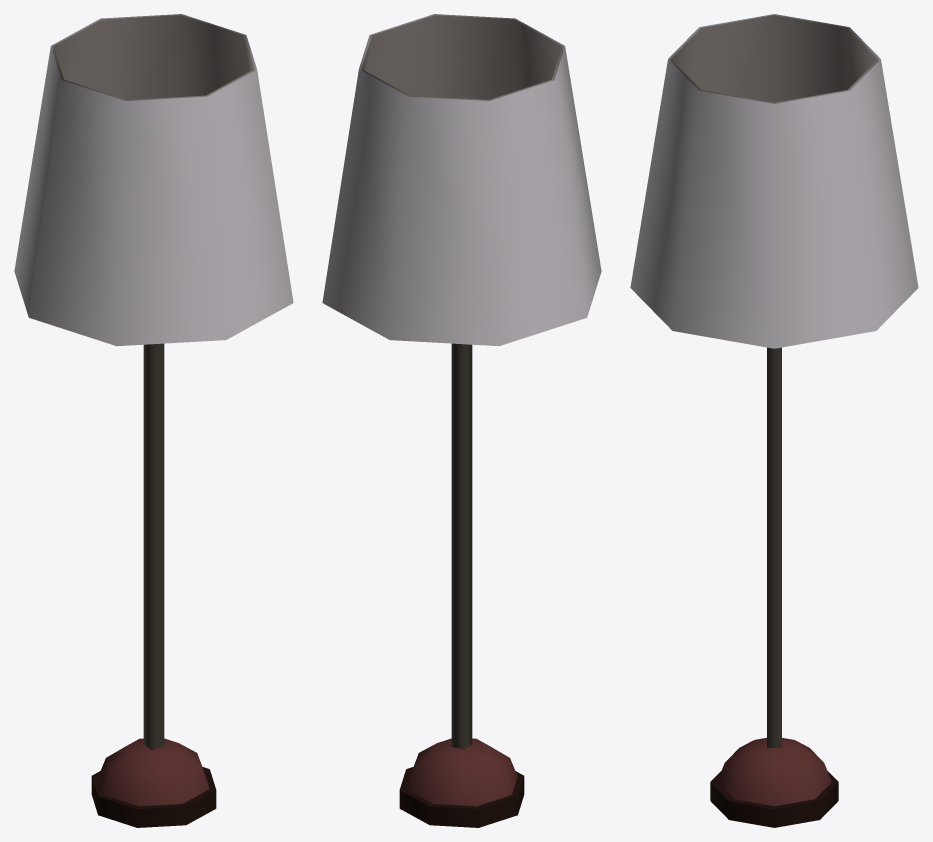
Rendered from lamp_01.fbx.
3 renders of one model, left to right at view 1: azimuth 30°, elevation 25°; view 2: azimuth 150°, elevation 25°; view 3: azimuth 270°, elevation 25°, orthographic.
Visible parts, largest first — view 1: lamp_01; view 2: lamp_01; view 3: lamp_01.
Boxes of the visible parts, box(x1,y1,x2,y2) form: lamp_01: box(14, 14, 293, 827); lamp_01: box(322, 14, 601, 827); lamp_01: box(630, 14, 918, 827).
Bounding box in the file's own units: 70.62 × 201 × 70.62.
